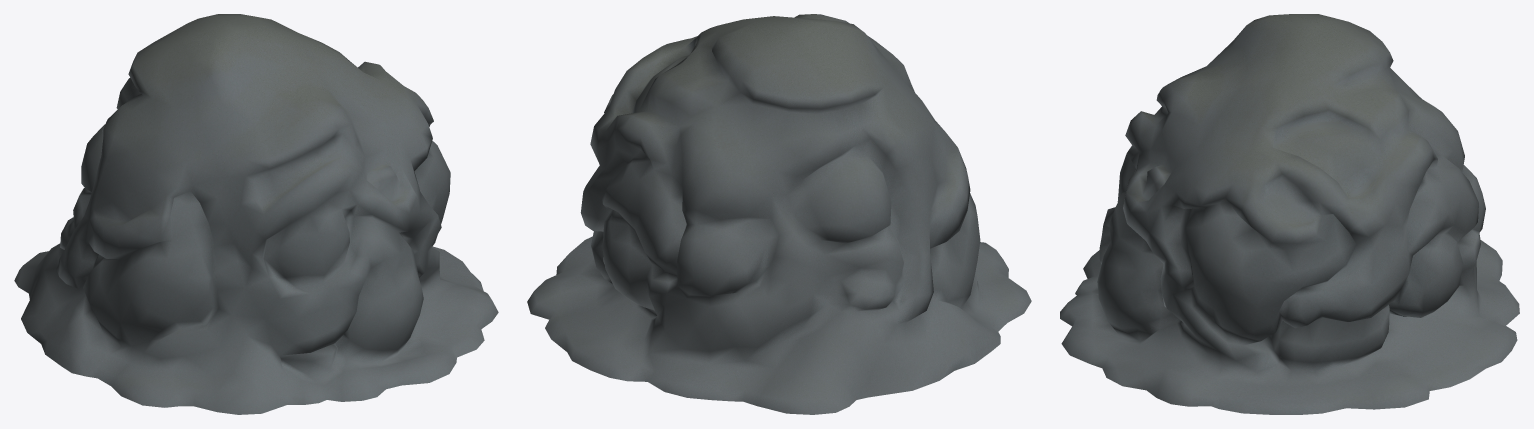
Rendered from rock-boulder.glb.
The picture shows the model from 3 angles, left to right: view 1: azimuth 30°, elevation 25°; view 2: azimuth 150°, elevation 25°; view 3: azimuth 270°, elevation 25°; orthographic projection. The views are drawn at different scales.
Size of the model in its own units: 1 by 0.6755 by 0.9959.
1 material, 1 textured.
